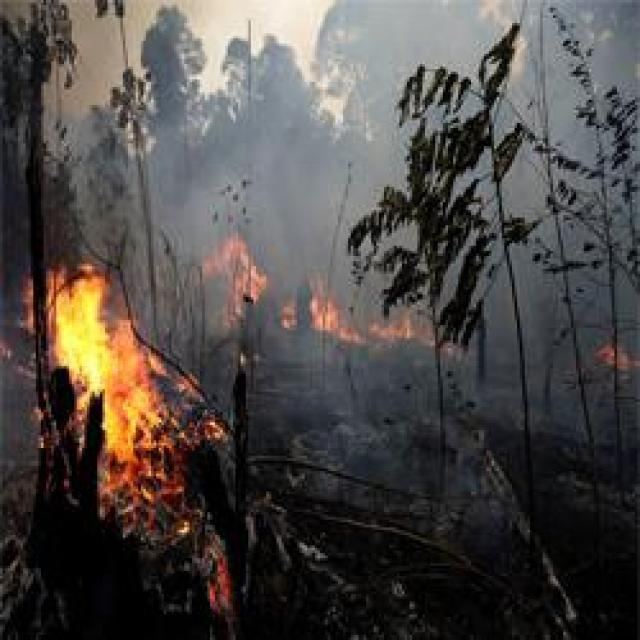Fire: (55, 265, 170, 476), (307, 295, 427, 350), (204, 236, 269, 332), (594, 320, 640, 389), (207, 534, 233, 618), (311, 295, 338, 337), (282, 300, 297, 329)
Smoke: (250, 25, 640, 244), (256, 367, 575, 548), (8, 49, 289, 225)
